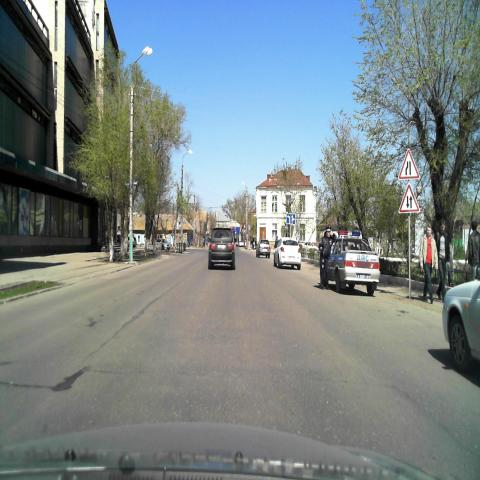1_20_3: (399, 148, 421, 182)
1_21: (398, 184, 419, 214)
5_15_2_2: (286, 213, 296, 225)
